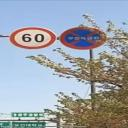speed_limit_60: (8, 26, 57, 50)
